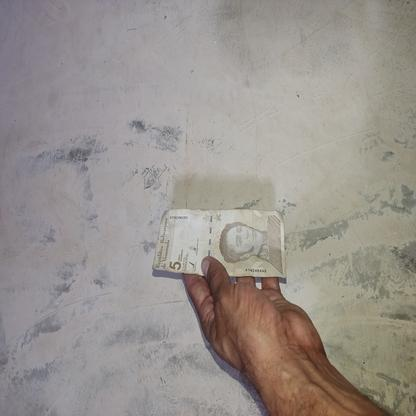five-front-vef: (152, 208, 286, 279)
